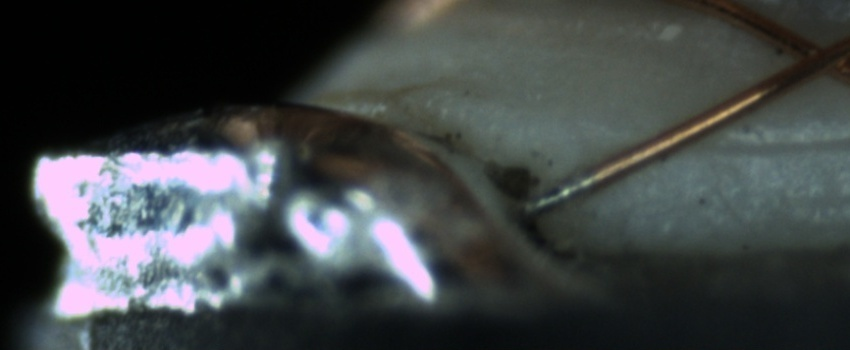CL: (768, 21, 849, 89)
DL: (675, 112, 847, 177)
TS: (522, 167, 596, 216)
TTCW: (516, 152, 614, 220)
